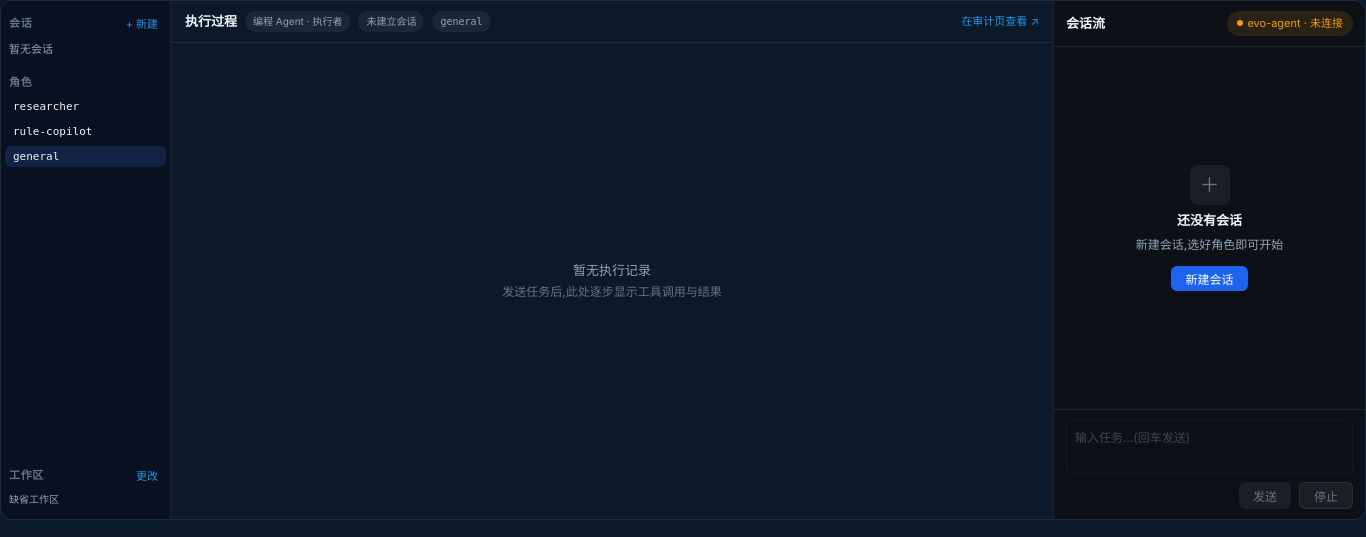
Test: AgentWorkspace — 工作文件夹(会话级声明,B-066) › 相对路径无效:应用键禁用+错误提示
Click the button "更改" at (147, 475), box [132,465,162,485]
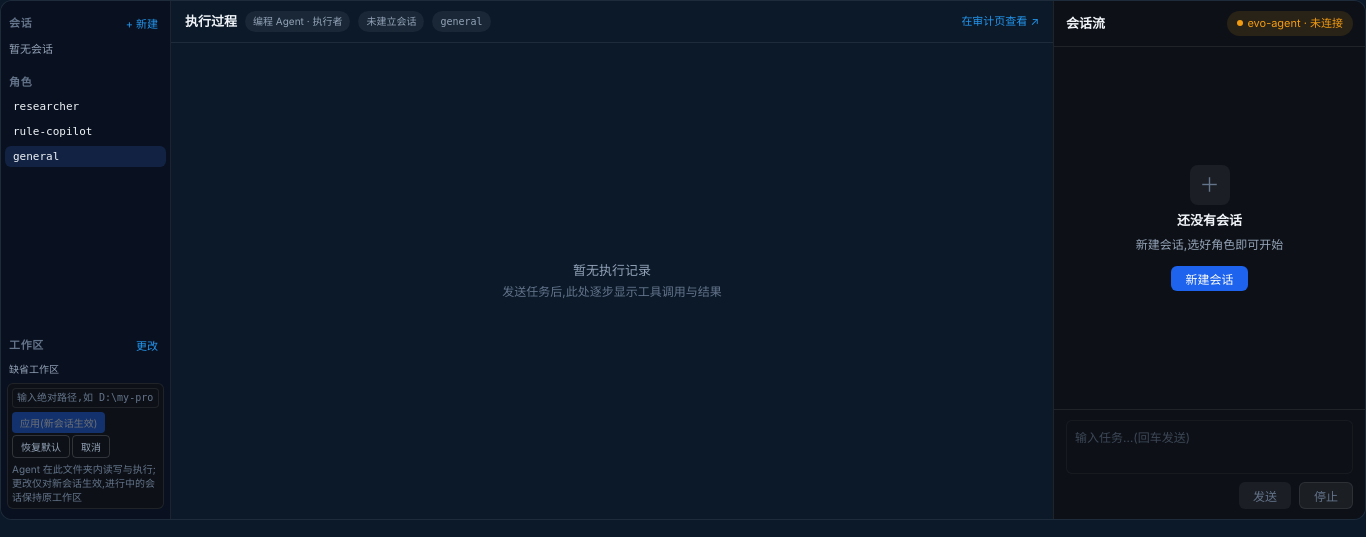
Type "relative/path" into the field with class "ws-input" at (86, 398), box [12,388,159,408]
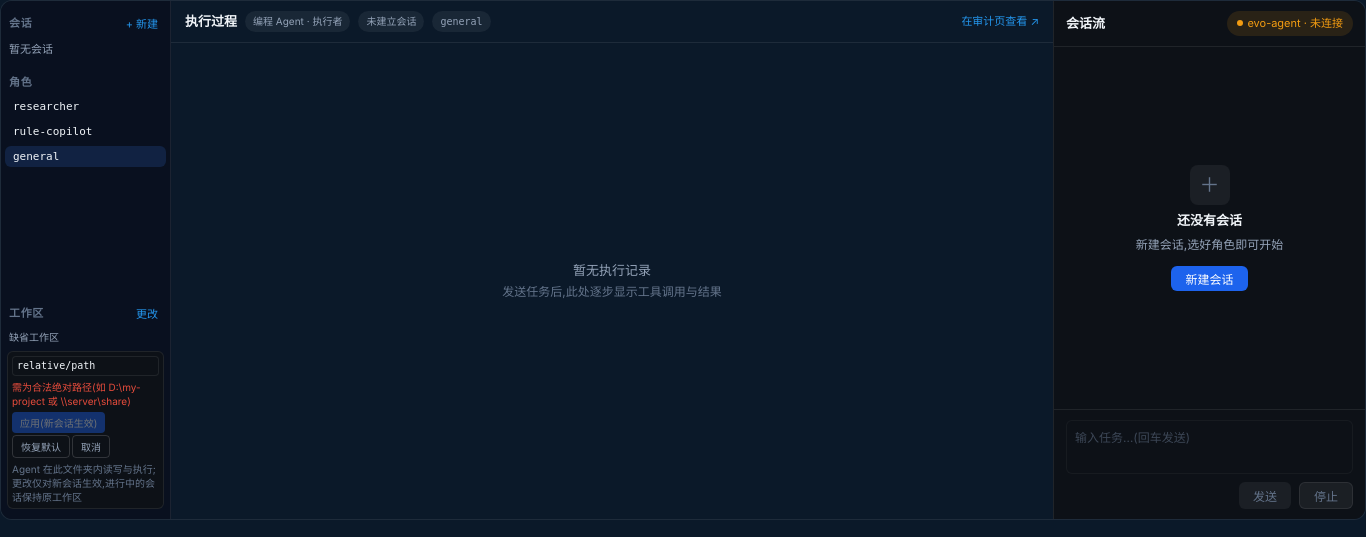
Expected: the button with class "ws-btn-pri" is disabled, [12,412,105,433]
Expected: the text "需为合法绝对路径(如 D:\\my-project 或 \\\\server\\share)" is shown, [12,380,159,408]
